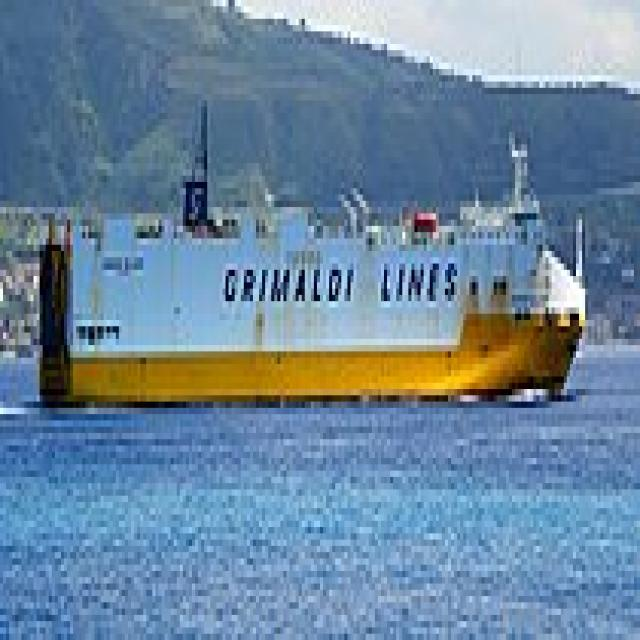Carrier: (34, 125, 588, 408)
